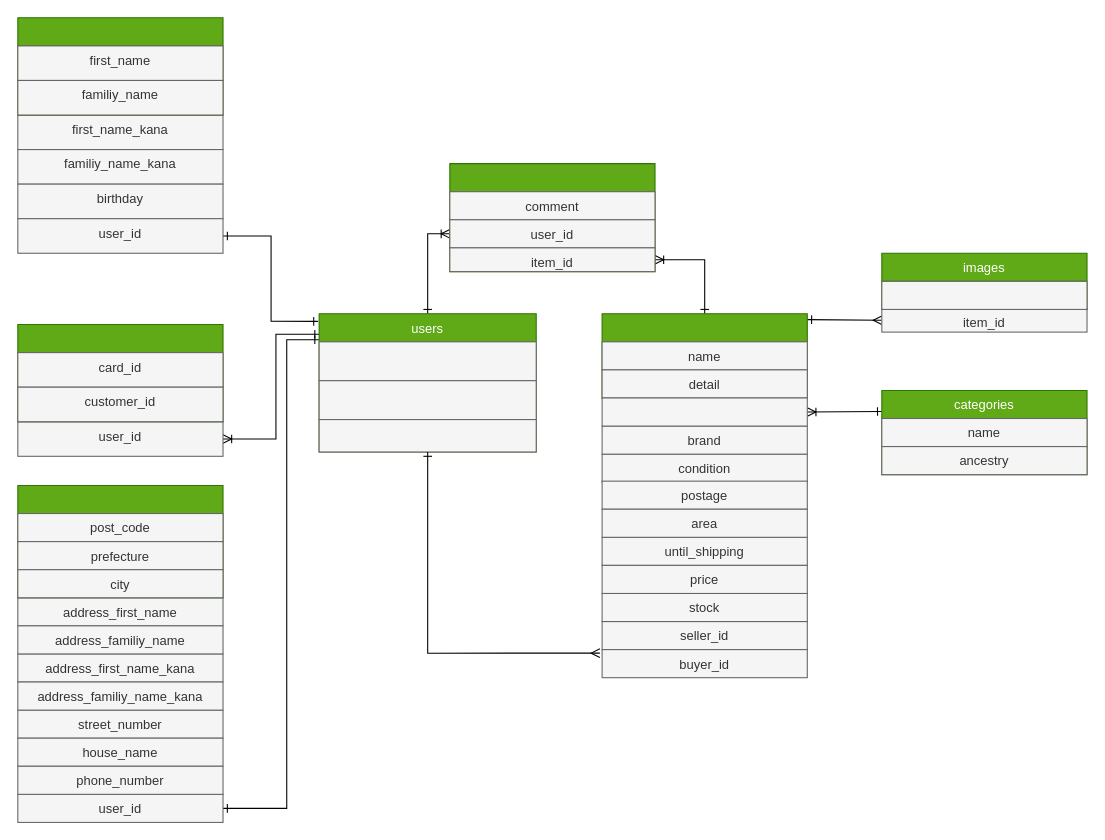
Some shapes in this 1105 by 840 pixel diagram are drawn without their labels. The box of each missing label's shape, as (x1, y1, x2, y2) in pixels:
address: (17, 484, 223, 598)
cards: (17, 323, 223, 422)
category_id: (601, 397, 807, 426)
comments: (449, 163, 655, 272)
email: (318, 418, 536, 452)
image: (881, 280, 1087, 309)
items: (601, 313, 807, 398)
nickname: (318, 341, 536, 381)
password: (318, 380, 536, 420)
profile: (17, 17, 223, 115)
